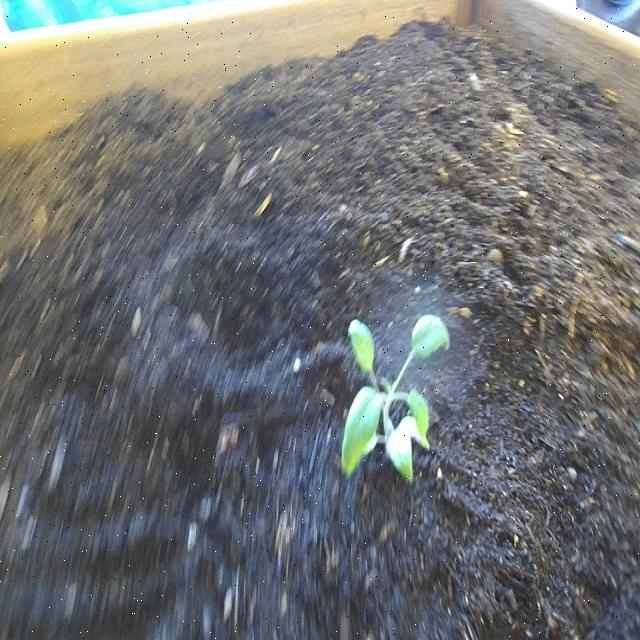Healthy: (338, 308, 454, 493)
